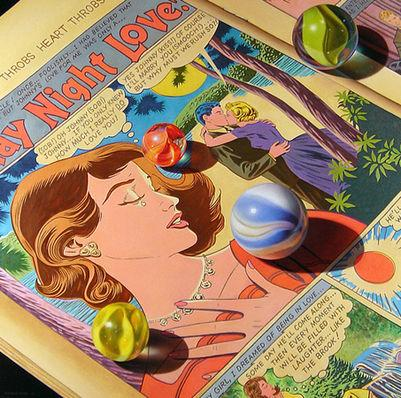person: (19, 142, 366, 396), (191, 96, 347, 215), (202, 100, 358, 197), (245, 380, 281, 394)
